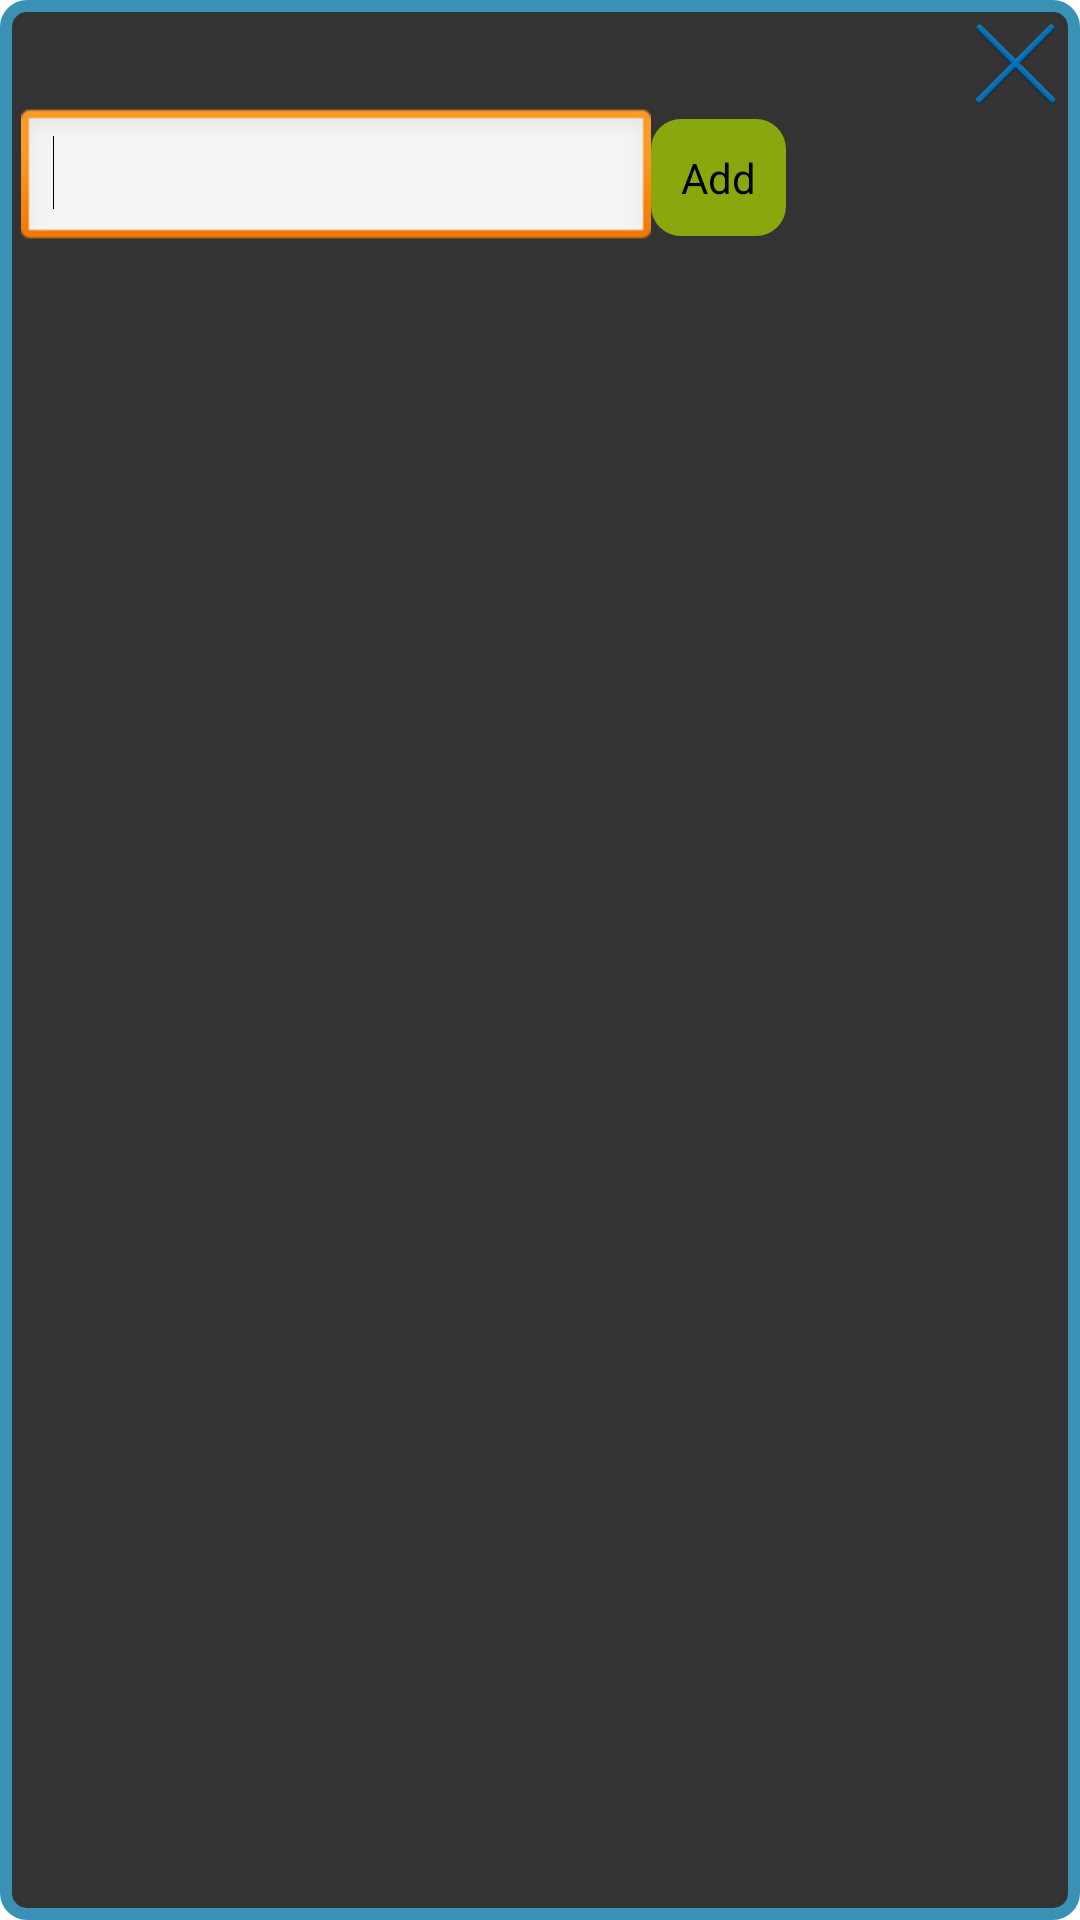

Named icons in this screenshot (1080*1920) and their centers, (x=x, y=y):
close: (x=1015, y=64)
